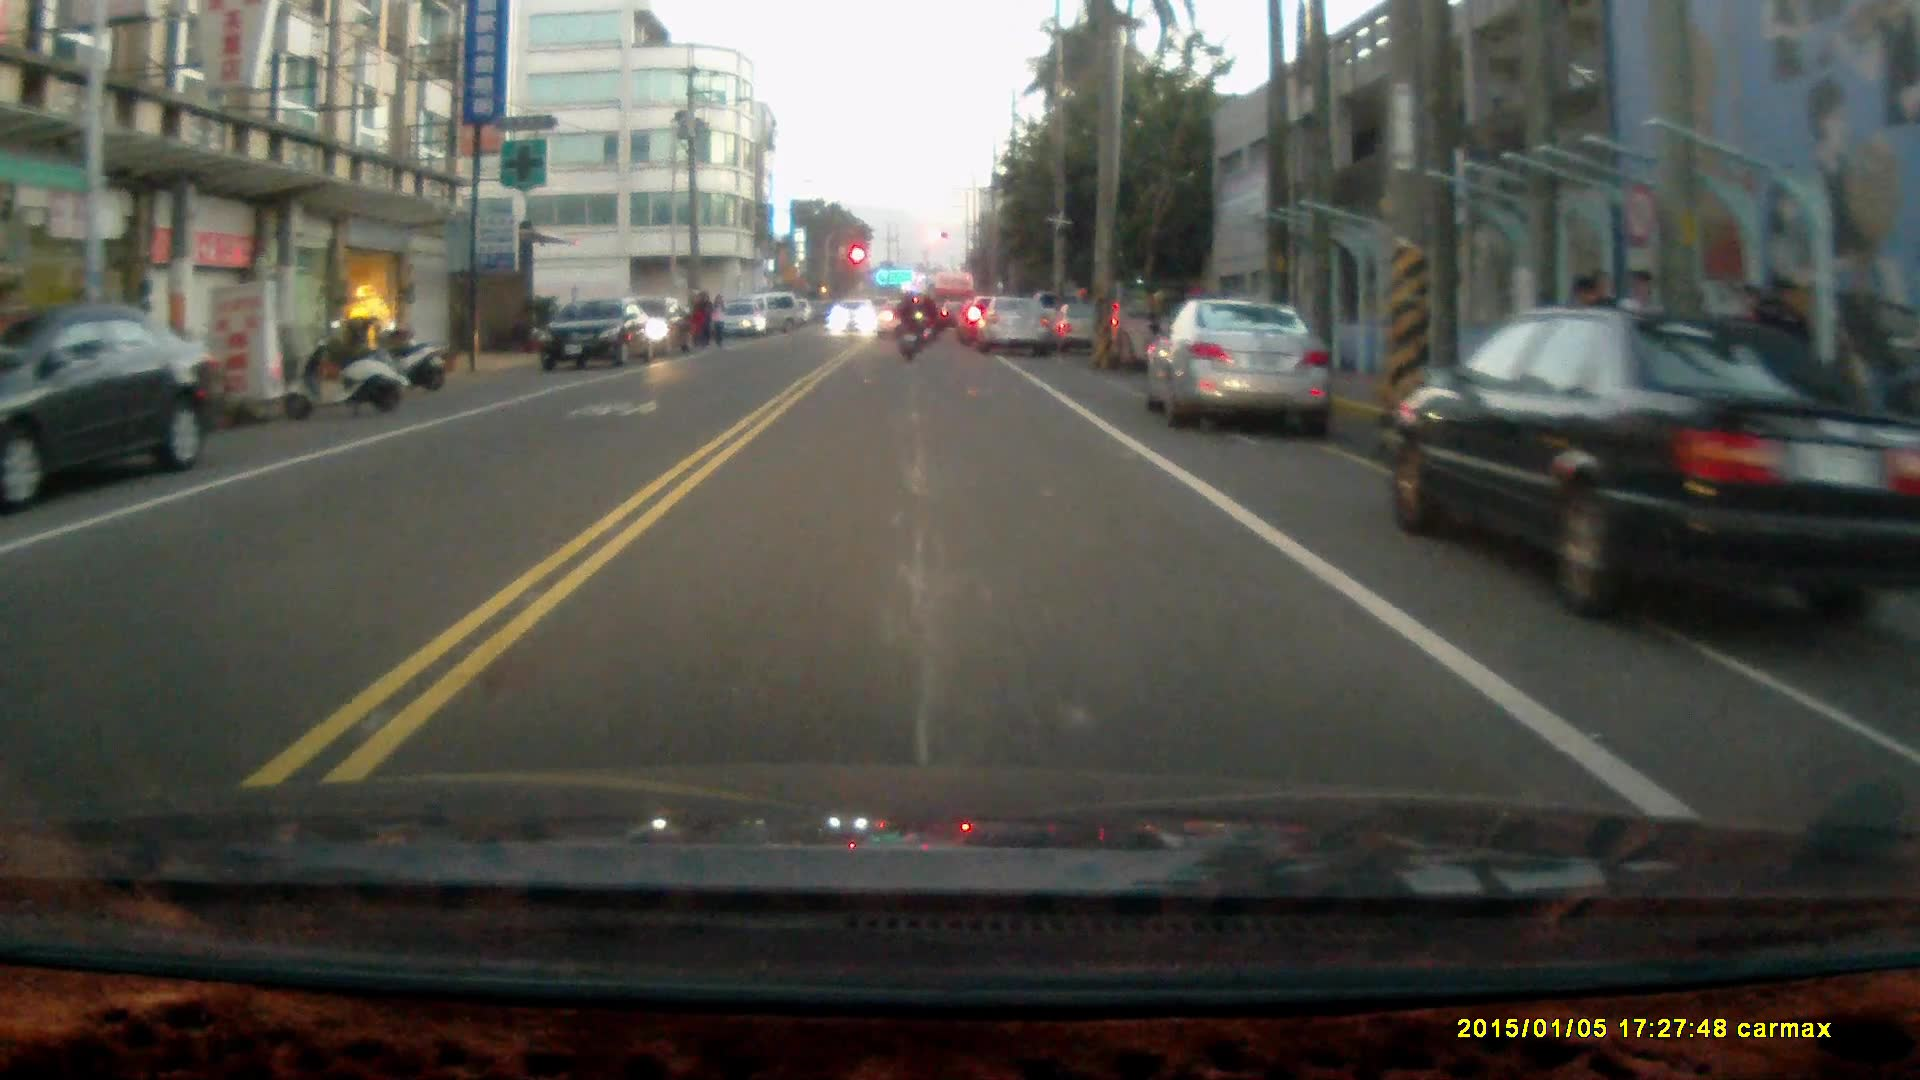pedestrian: (691, 288, 714, 350), (706, 290, 726, 350)
rider: (893, 287, 925, 363)
vehicle: (1385, 302, 1920, 633), (1, 305, 211, 497), (1143, 301, 1334, 428), (538, 300, 664, 377), (976, 292, 1054, 352)
